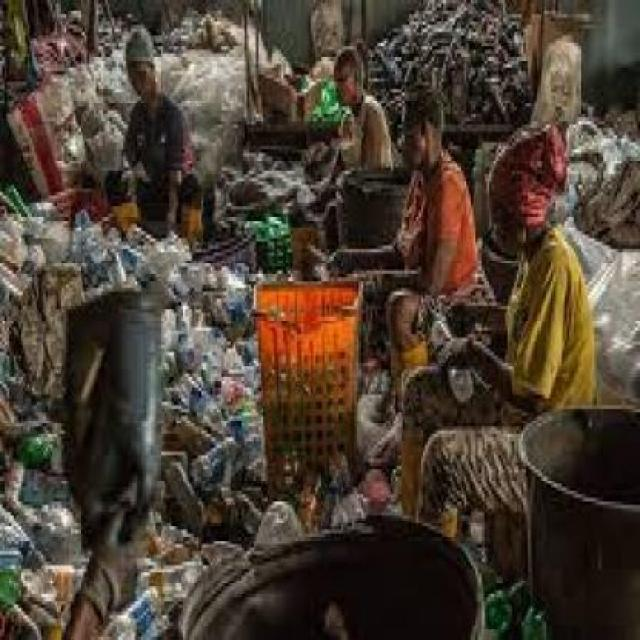garbage: (273, 282, 396, 524), (0, 0, 104, 284), (168, 299, 271, 548), (372, 0, 630, 99), (0, 292, 64, 630), (155, 5, 334, 119), (113, 220, 250, 288), (574, 103, 638, 242), (474, 548, 550, 637)
